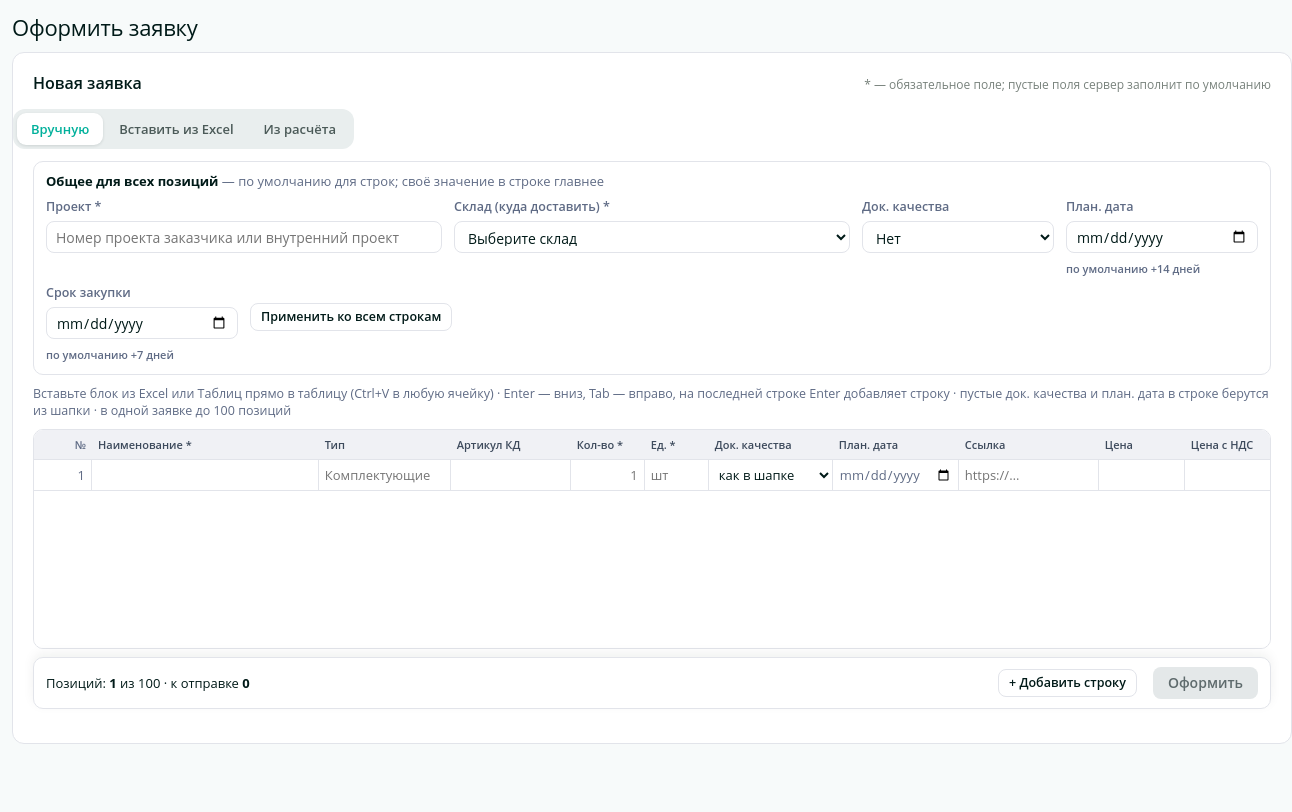
request form › nomenclature autocomplete fills name, article, unit and type
Expected: the dropdown labelled "Проект" is shown, [46, 221, 442, 253]
In the dropdown named "Наименование, строка 1": [205, 475] box [92, 460, 318, 490], type "Fakra"
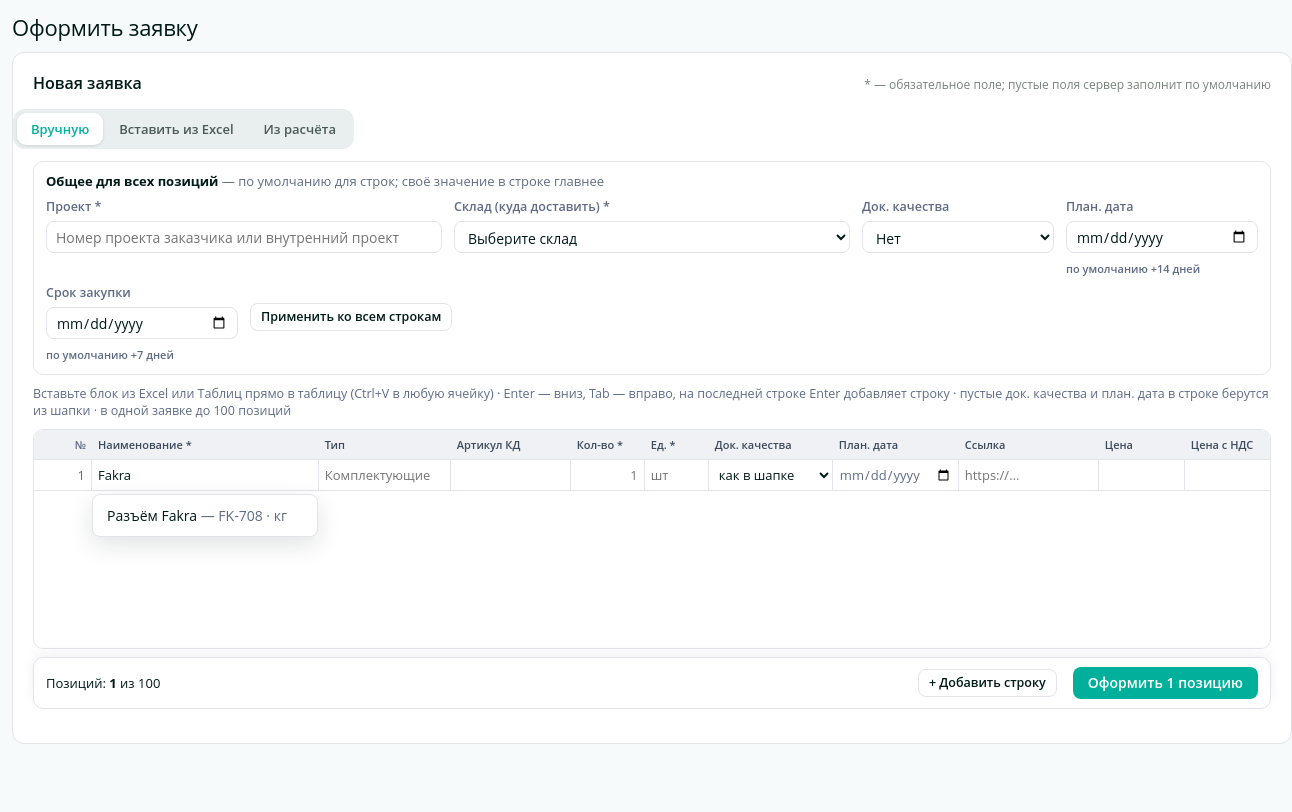
Press the mouse on the option "Разъём Fakra — FK-708 · кг": [197, 516] box [107, 506, 287, 525]
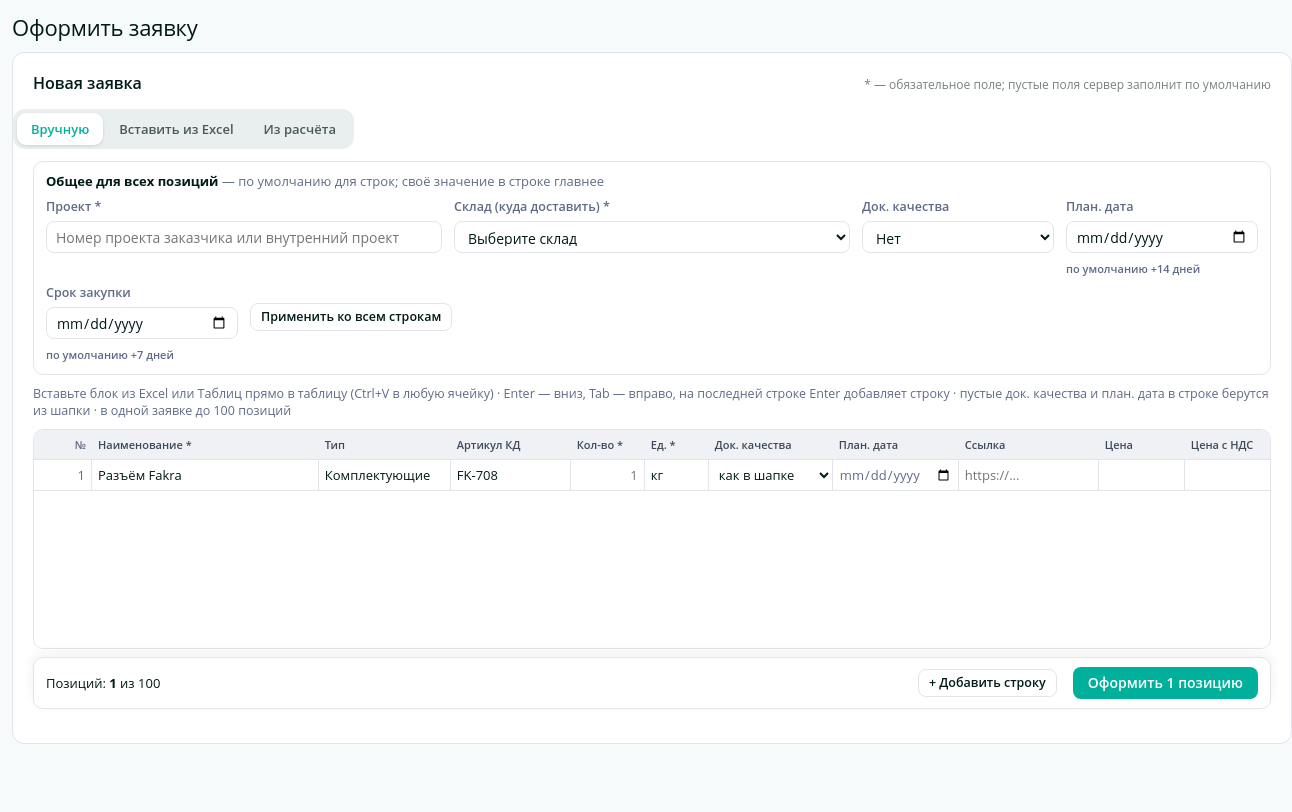
Now the dropdown named "Наименование, строка 1" holds "Разъём Fakra", box [92, 460, 318, 490]
Now the field named "Артикул КД, строка 1" holds "FK-708", box [451, 460, 570, 490]
Now the dropdown named "Ед., строка 1" holds "кг", box [645, 460, 708, 490]
